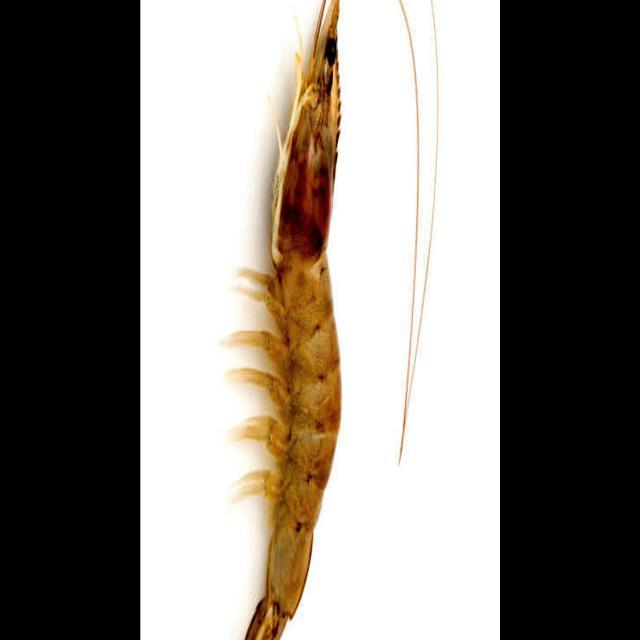shrimp: (226, 0, 340, 640)
